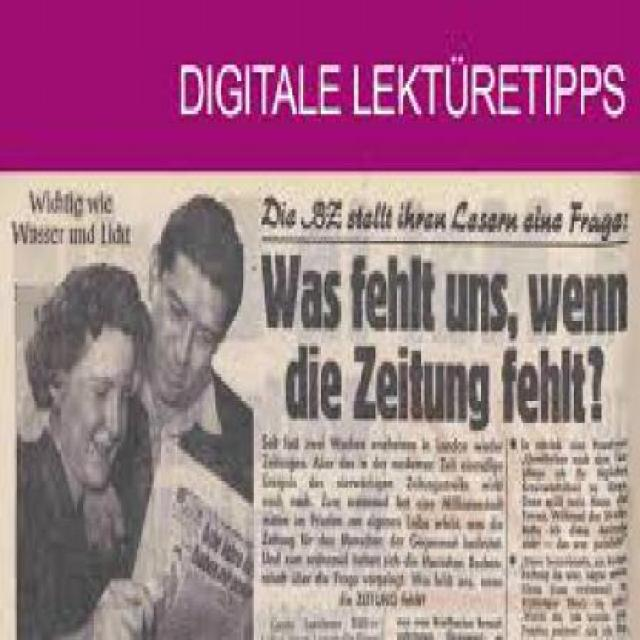paper: (0, 168, 638, 636)
